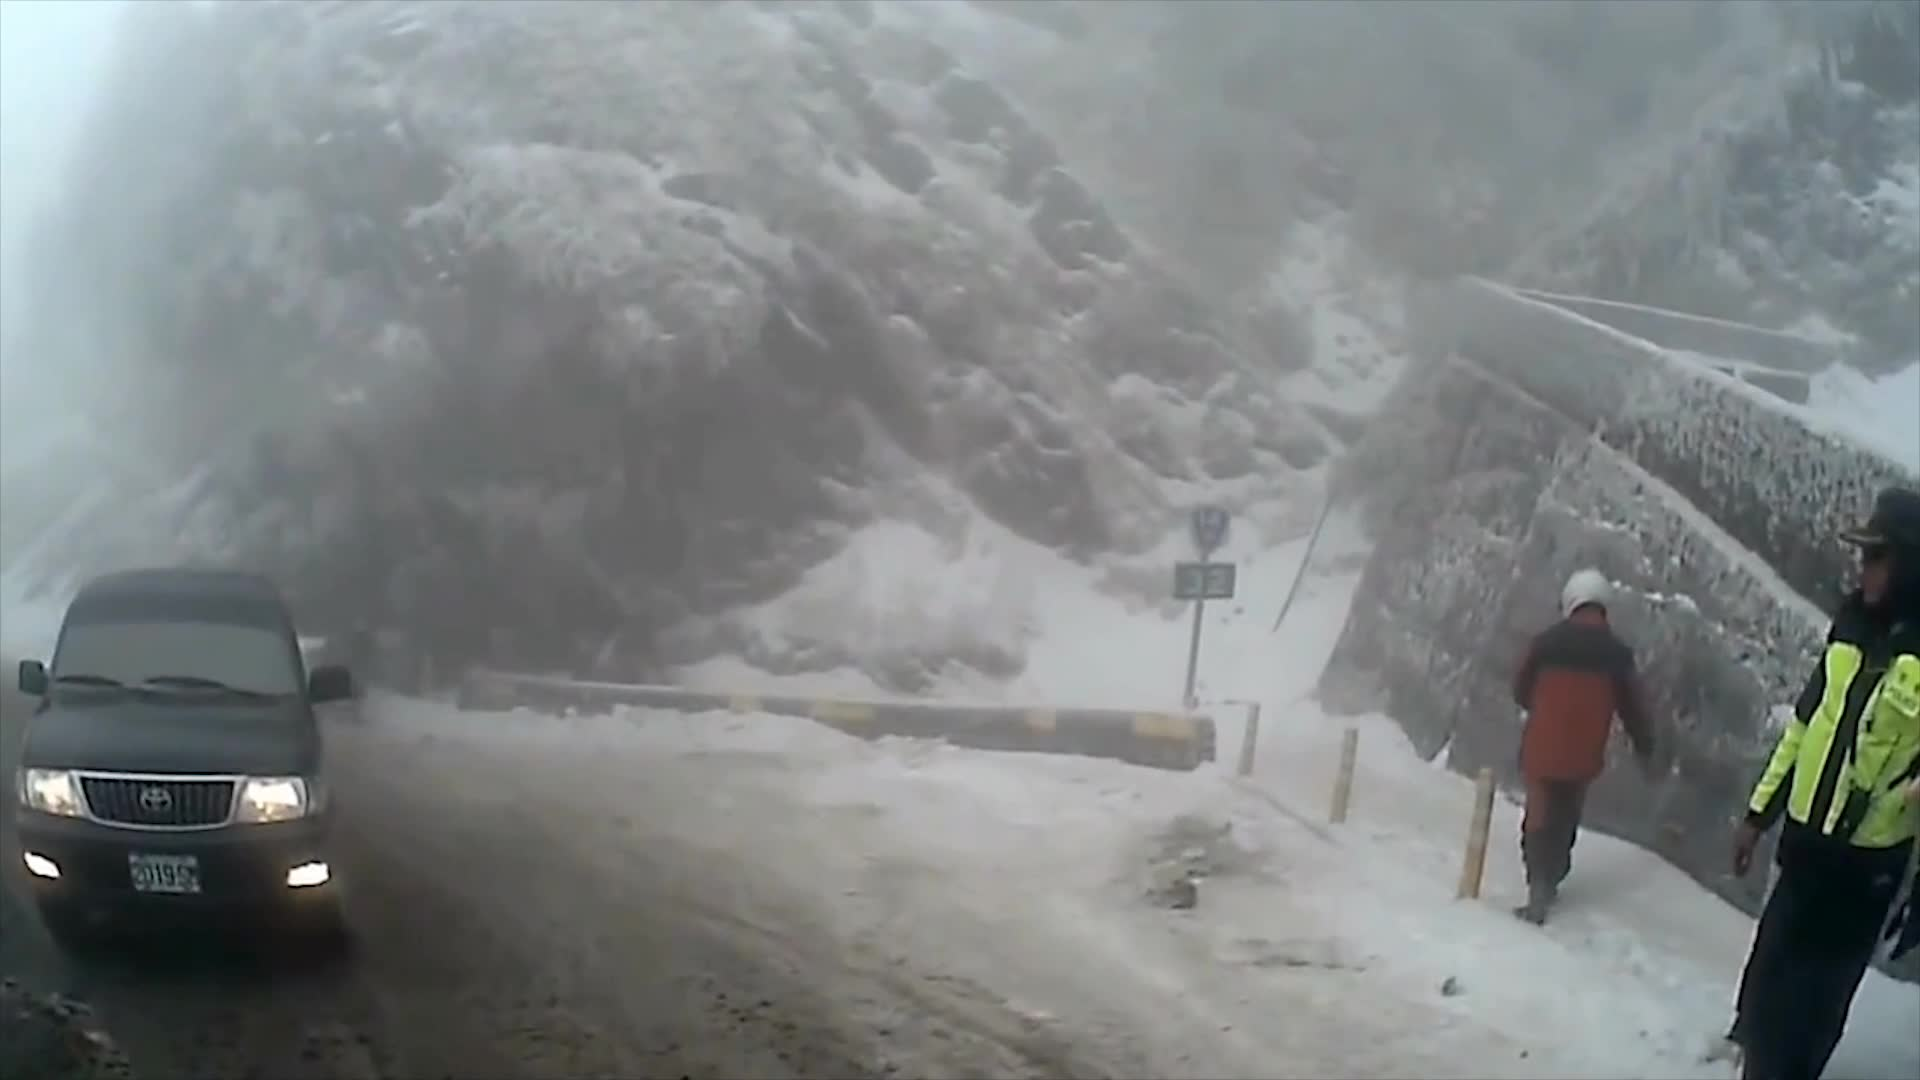pedestrian: (1698, 492, 1920, 1080), (1508, 572, 1653, 926)
vehicle: (12, 568, 352, 945)
